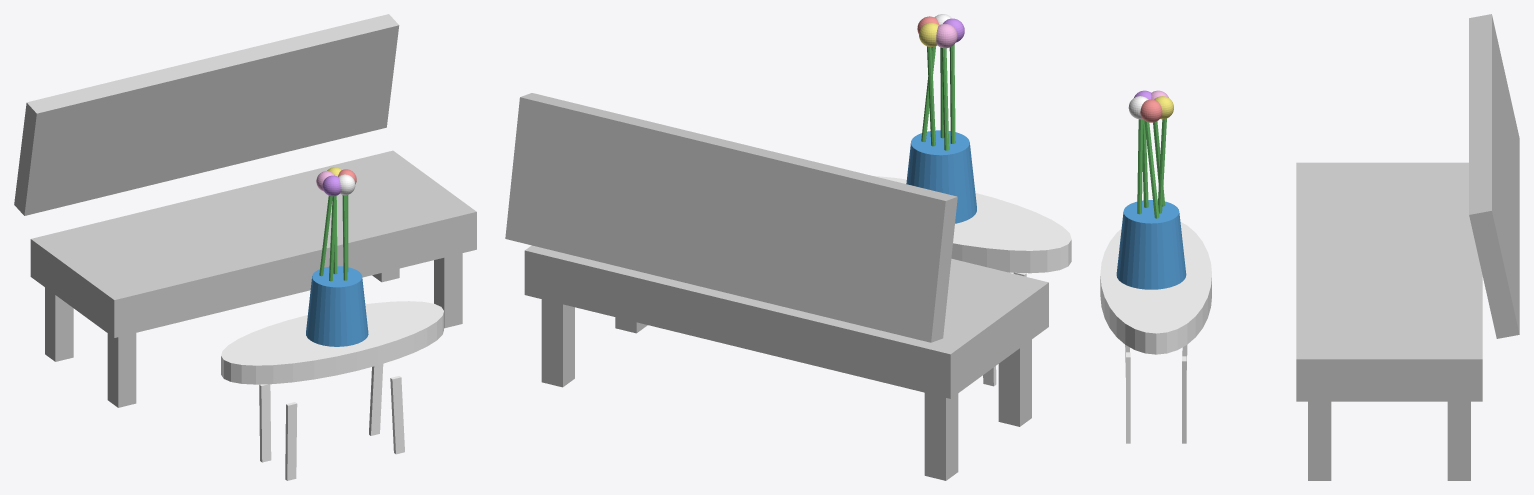
The model's file is bench1.glb.
3 renders of one model, left to right at view 1: azimuth 30°, elevation 25°; view 2: azimuth 150°, elevation 25°; view 3: azimuth 270°, elevation 25°, orthographic. The views are drawn at different scales.
Visible parts, largest first — view 1: Park_Bench, Park_Table, Flower_Arrangement; view 2: Park_Bench, Flower_Arrangement, Park_Table; view 3: Park_Bench, Park_Table, Flower_Arrangement.
Boxes of the visible parts, x1,y1,x2,y2 form: Park_Bench: (14,14,476,407); Park_Table: (221,301,443,480); Flower_Arrangement: (306,167,368,346); Park_Bench: (505,93,1048,480); Flower_Arrangement: (906,14,976,223); Park_Table: (874,176,1071,386); Park_Bench: (1296,14,1519,480); Park_Table: (1100,221,1211,443); Flower_Arrangement: (1116,90,1186,289).
Size of what is drawn, in the model's own units: 2 by 1.5 by 1.8.
